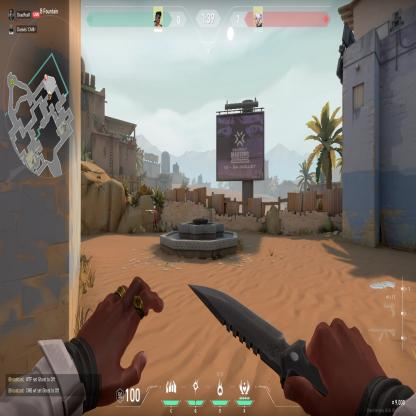enemy: (150, 205, 158, 234)
